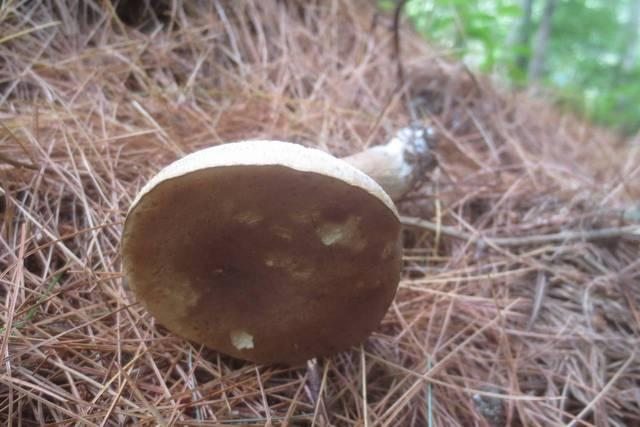Non-edible Mushroom: (118, 137, 404, 372)
